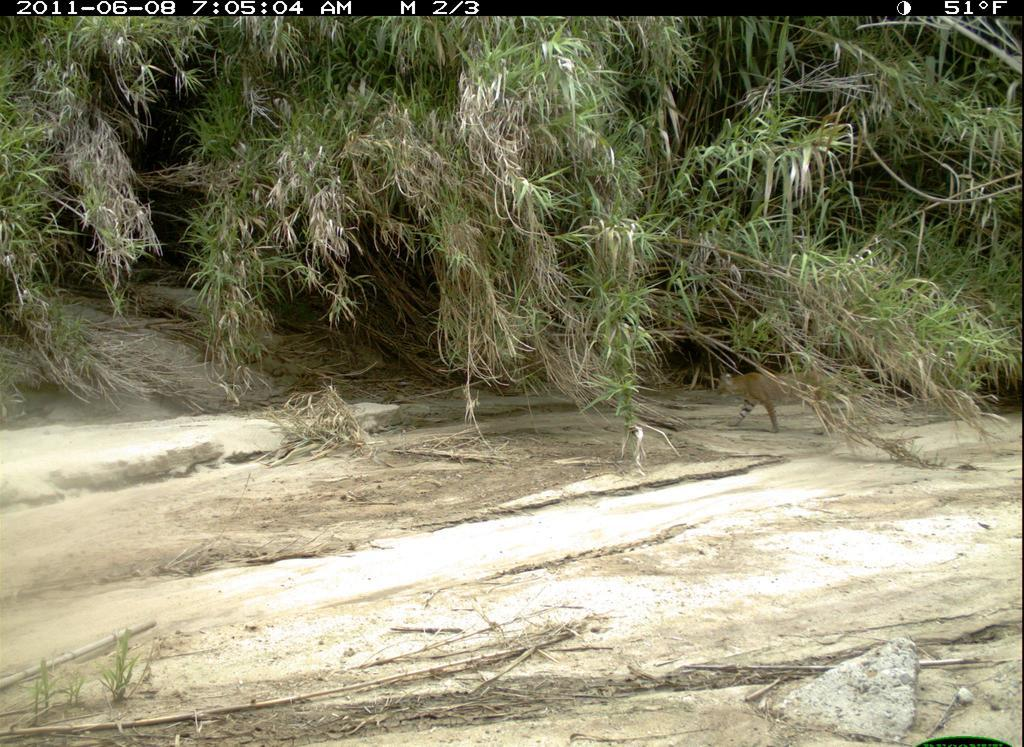bobcat: (708, 364, 853, 440)
